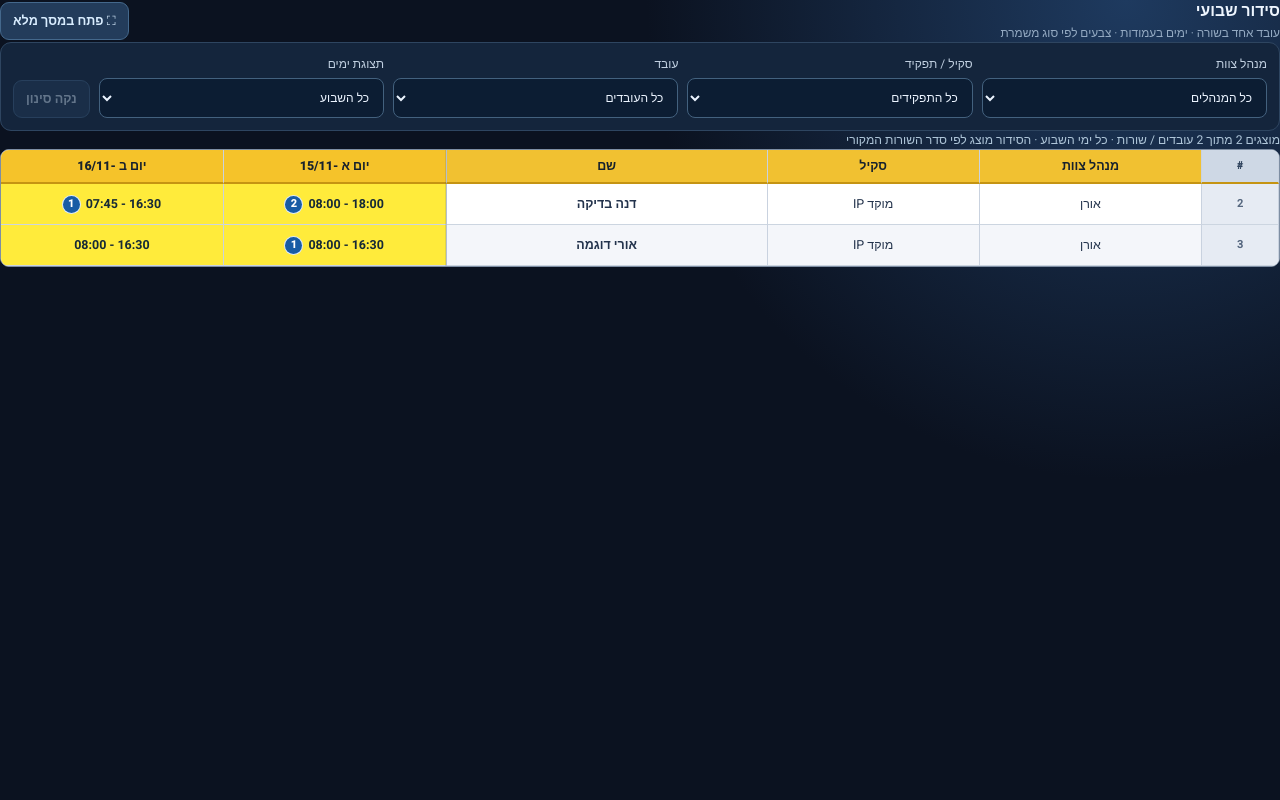
Scenario: actual weekday cell hover interaction › appears on hover, hides on mouse leave, and keeps click-to-open details
Hover over the button "08:00 - 18:00 2" at (335, 204), box [231,190,438,218]
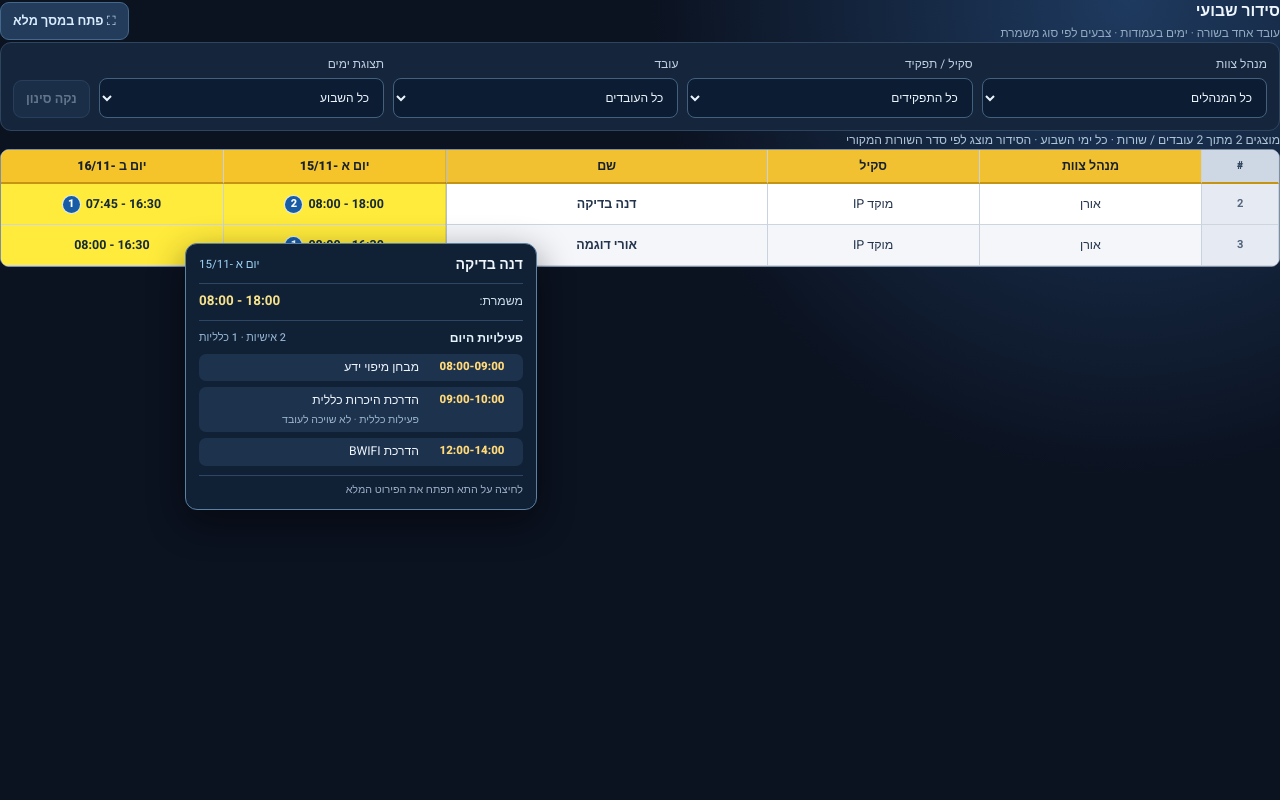
Expected: the tooltip is shown, [185,243,537,510]
Expected: the tooltip shows "08:00 - 18:00", [199,291,280,311]
Expected: the tooltip shows "מבחן מיפוי ידע", [344,358,419,376]
Move the pointer off the button "08:00 - 18:00 2", box [231,190,438,218]
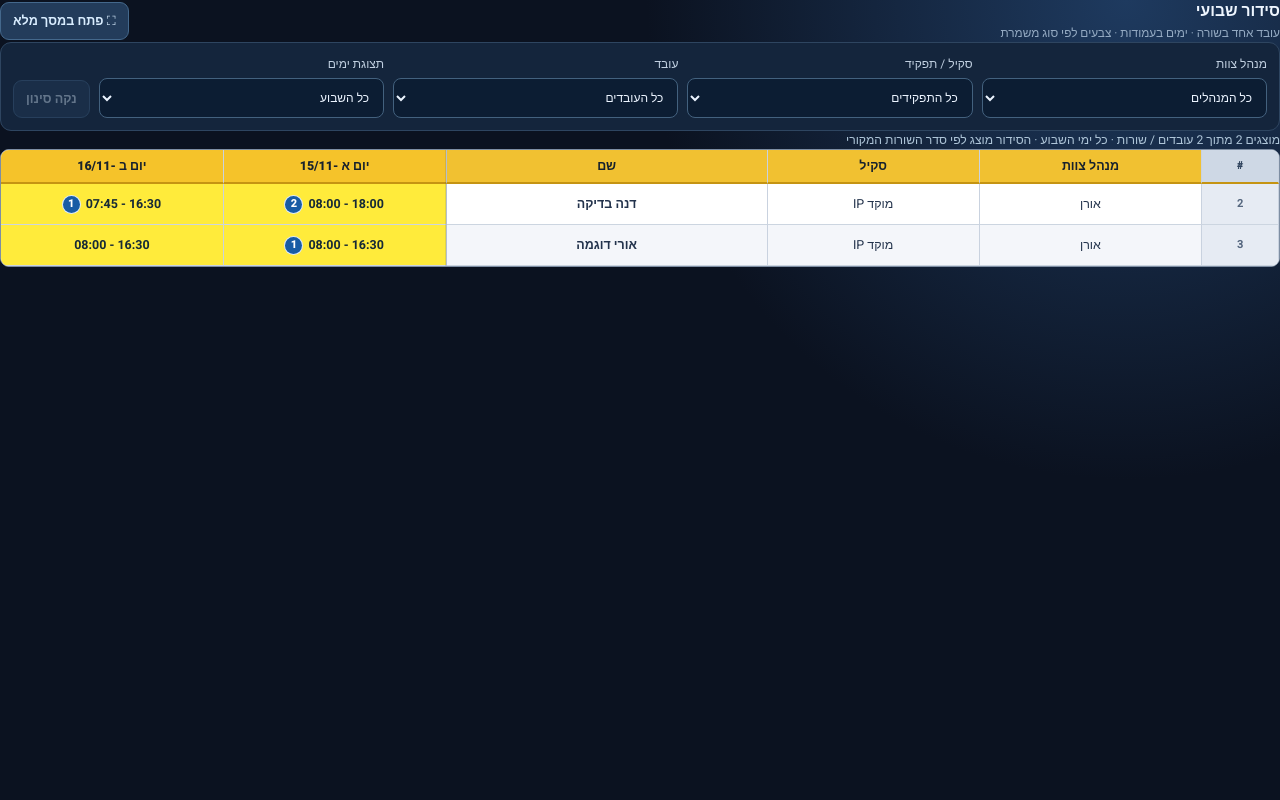
Expected: the tooltip is gone
Click the button "08:00 - 18:00 2". click: (335, 204)
box: [231,190,438,218]
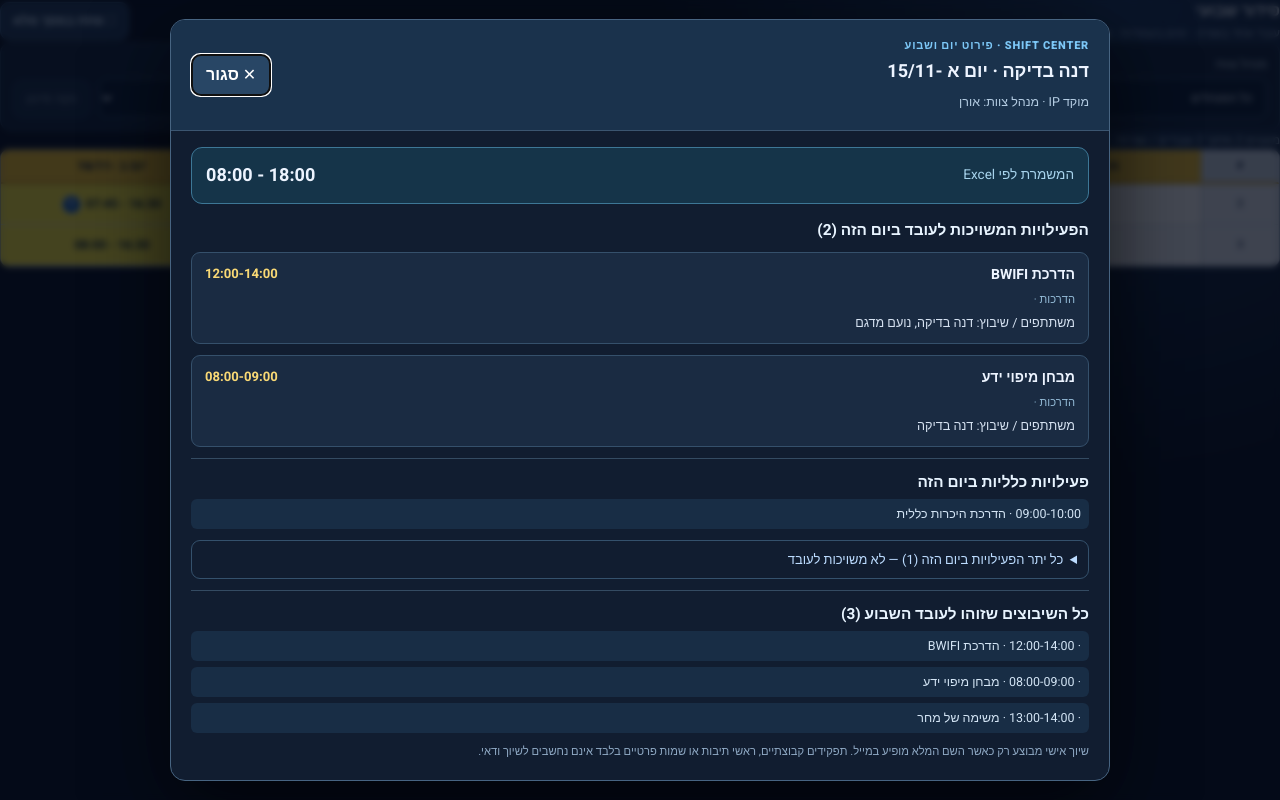
Expected: the dialog is shown
